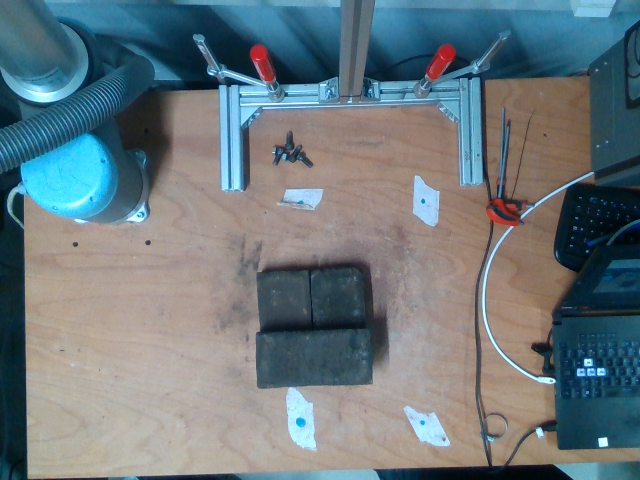brick: (257, 327, 370, 388)
